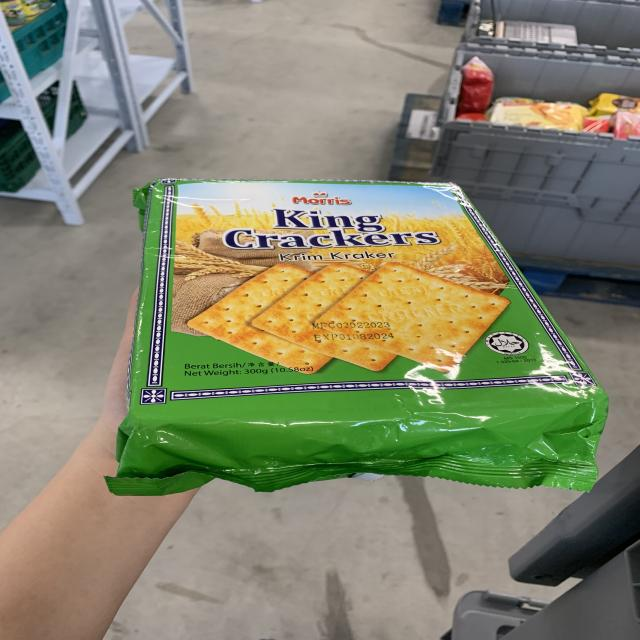object_name: (142, 175, 547, 484)
